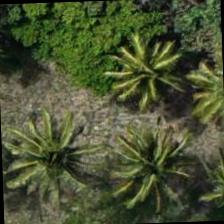Kelapa_Sawit: (96, 34, 190, 128), (5, 108, 98, 202), (104, 126, 196, 219)
